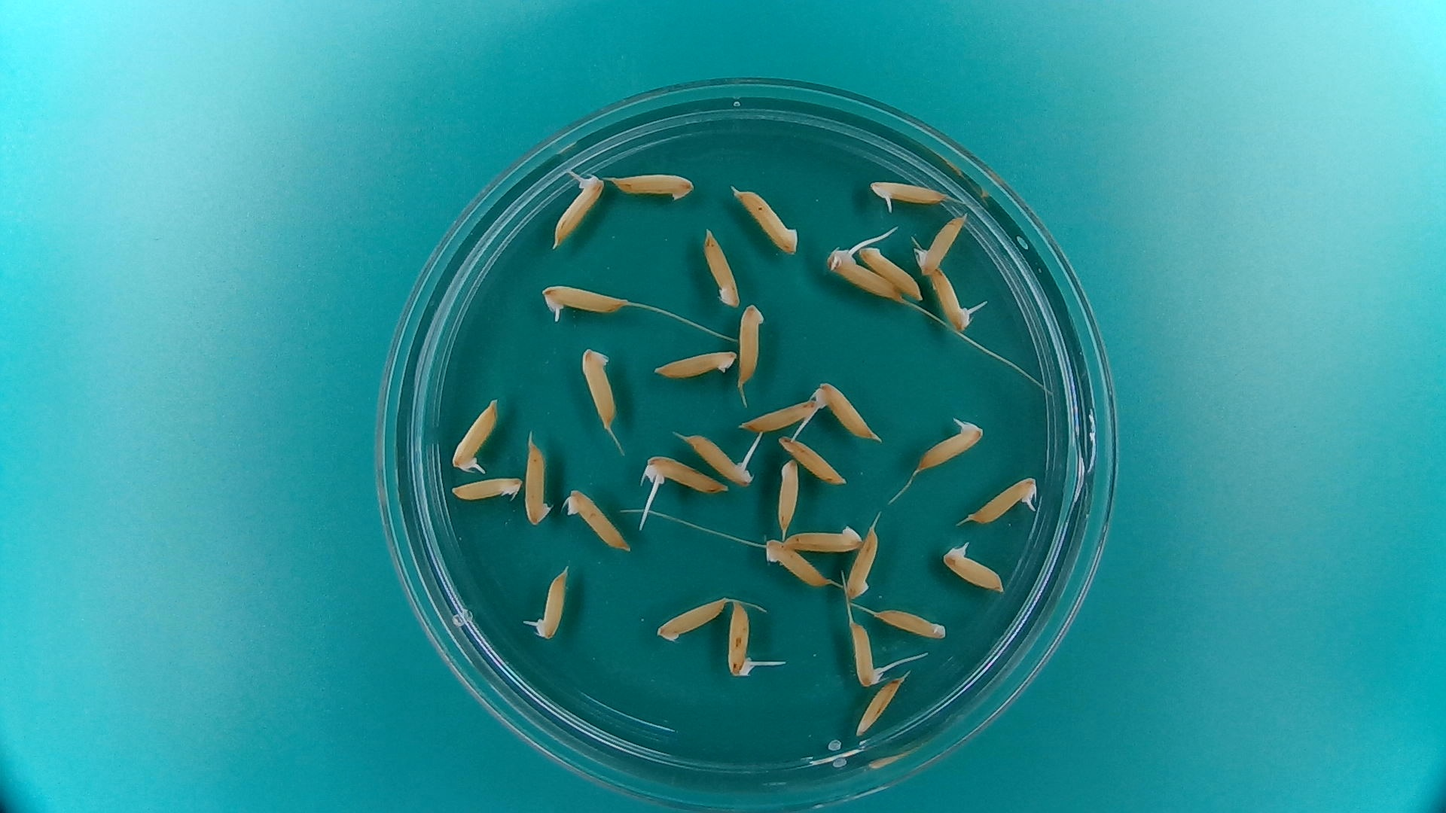no: (562, 484, 633, 554), (740, 187, 804, 257), (775, 427, 847, 485), (653, 593, 731, 644), (577, 342, 621, 432), (760, 537, 833, 589), (860, 243, 923, 302), (700, 225, 743, 309), (521, 431, 554, 530), (650, 345, 738, 382), (853, 676, 905, 737), (842, 521, 881, 602), (871, 604, 949, 643), (738, 396, 819, 433), (782, 518, 866, 553), (737, 299, 769, 386), (609, 173, 697, 204), (447, 473, 524, 506), (775, 455, 802, 534)
yes: (447, 392, 502, 475), (829, 246, 903, 305), (677, 434, 756, 489), (552, 169, 602, 251), (813, 382, 875, 443), (643, 451, 727, 496), (915, 421, 987, 471), (972, 472, 1039, 524), (918, 209, 969, 277), (537, 287, 628, 322), (534, 563, 572, 643), (929, 263, 972, 333), (942, 548, 1006, 593), (848, 617, 888, 688), (870, 178, 950, 209), (725, 597, 755, 678)
